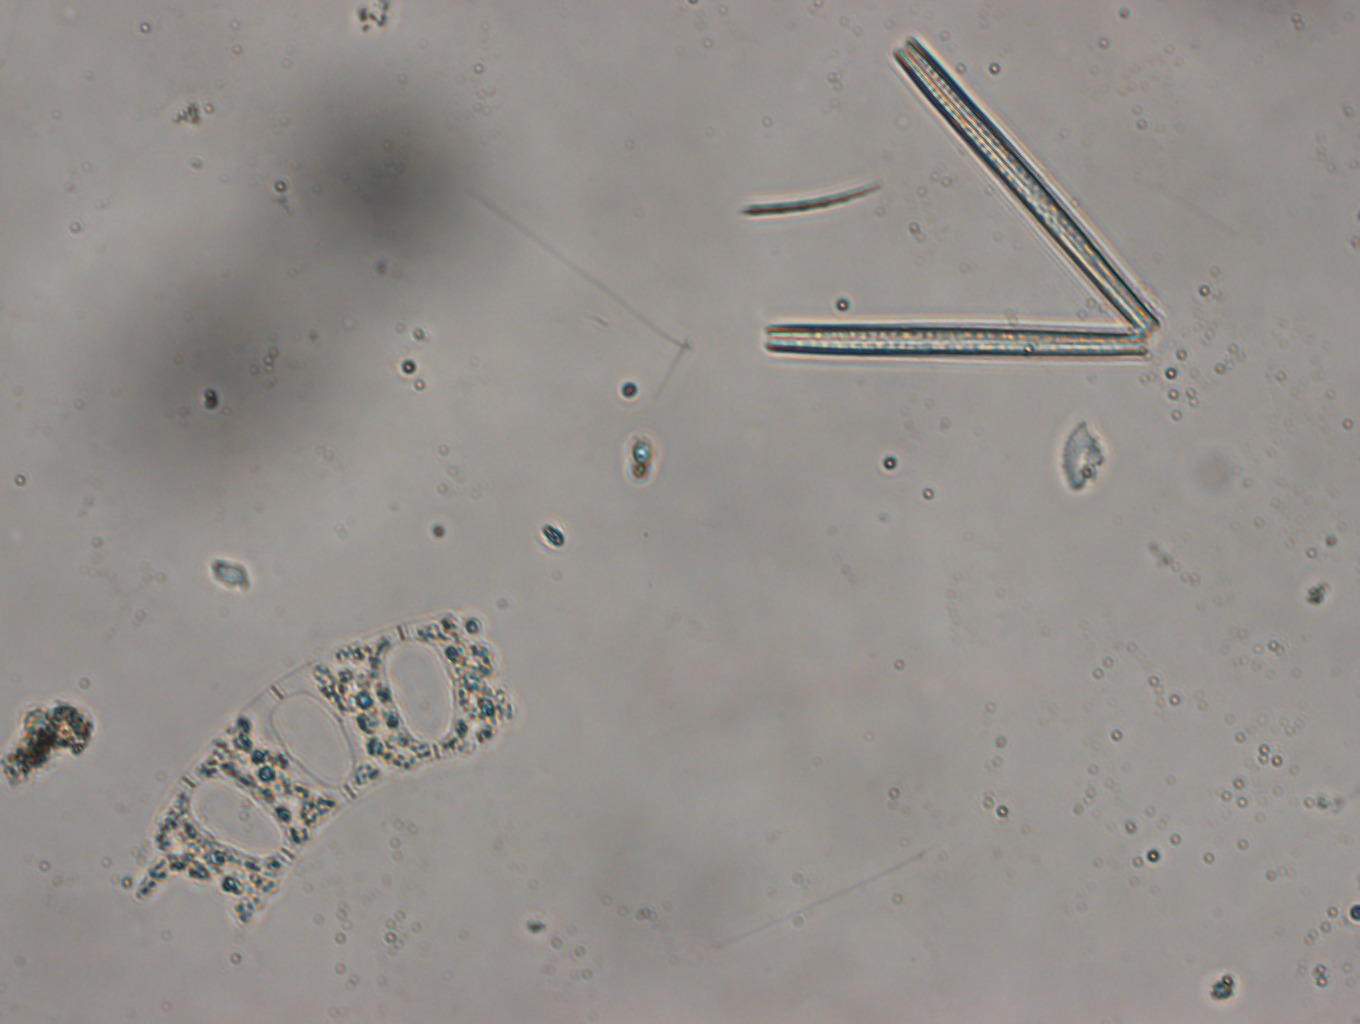eucampia: (131, 603, 525, 935)
thalassionema nitzschioides: (760, 33, 1172, 364)
